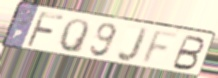9: (88, 22, 117, 59)
B: (169, 33, 207, 72)
F: (138, 29, 183, 67), (23, 10, 65, 49)
J: (116, 26, 151, 64)
Q: (57, 17, 91, 55)
